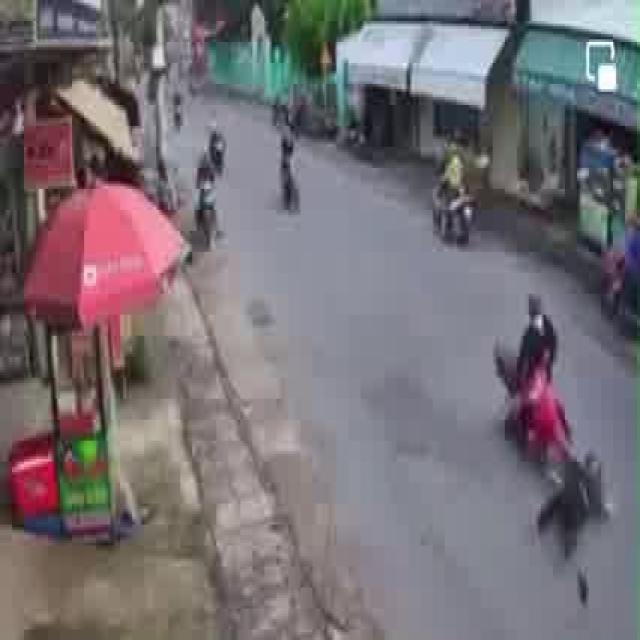multiple_accident: (489, 281, 612, 613)
normal: (171, 120, 237, 257), (257, 110, 317, 220), (419, 139, 476, 244)
